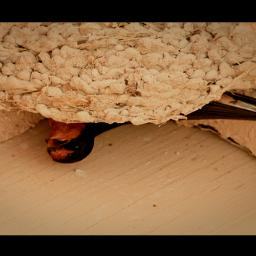Swallow: (42, 83, 256, 166)
